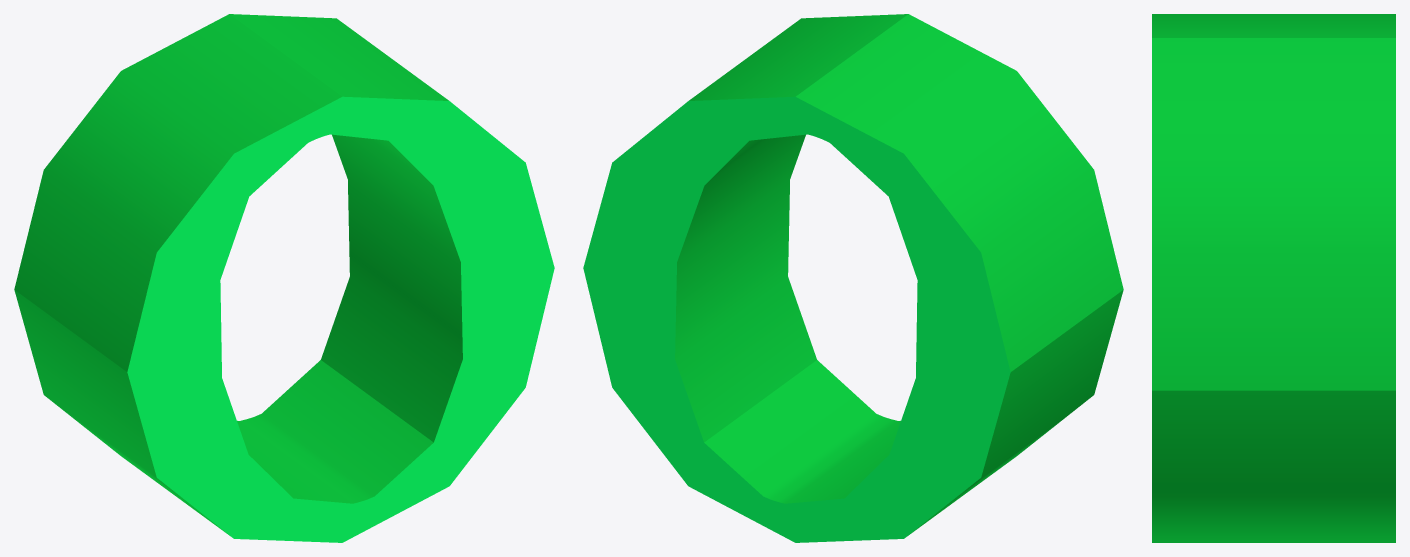
The model's file is O_Soul_Green.glb.
The picture shows the model from 3 angles, left to right: view 1: azimuth 30°, elevation 25°; view 2: azimuth 150°, elevation 25°; view 3: azimuth 270°, elevation 25°; orthographic projection. The views are drawn at different scales.
Visible parts, largest first — view 1: o_Soul_Green; view 2: o_Soul_Green; view 3: o_Soul_Green.
Boxes of the visible parts, x1,y1,x2,y2 form: o_Soul_Green: (14, 14, 554, 542); o_Soul_Green: (583, 14, 1123, 542); o_Soul_Green: (1152, 14, 1395, 542).
Size of what is drawn, in the model's own units: 0.0982 by 0.098 by 0.045.
Materials: 2 (2 with a texture image).
